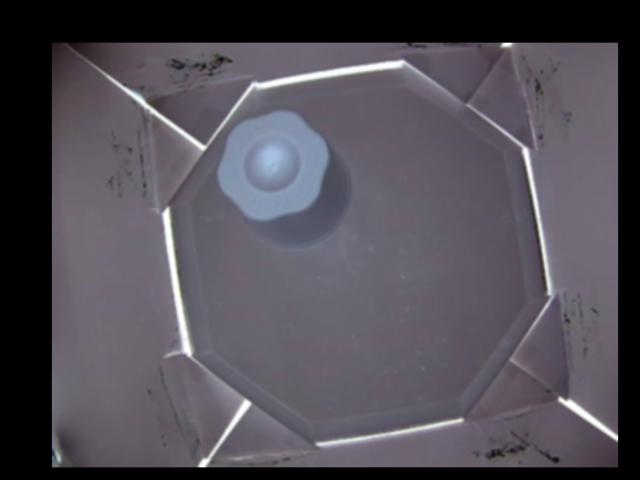Cup: (216, 110, 352, 247)
